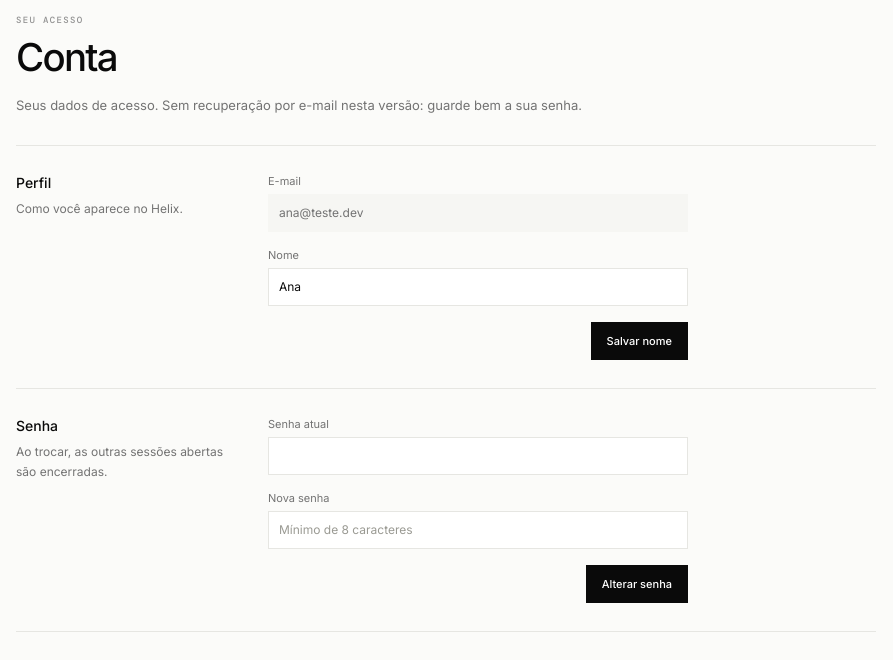
Test: AccountView › mostra mensagem genérica quando changePassword é rejeitada
The image size is (893, 660).
Type "errada-123" into the password field labelled "Senha atual" at [478, 456], box [268,437,688,475]
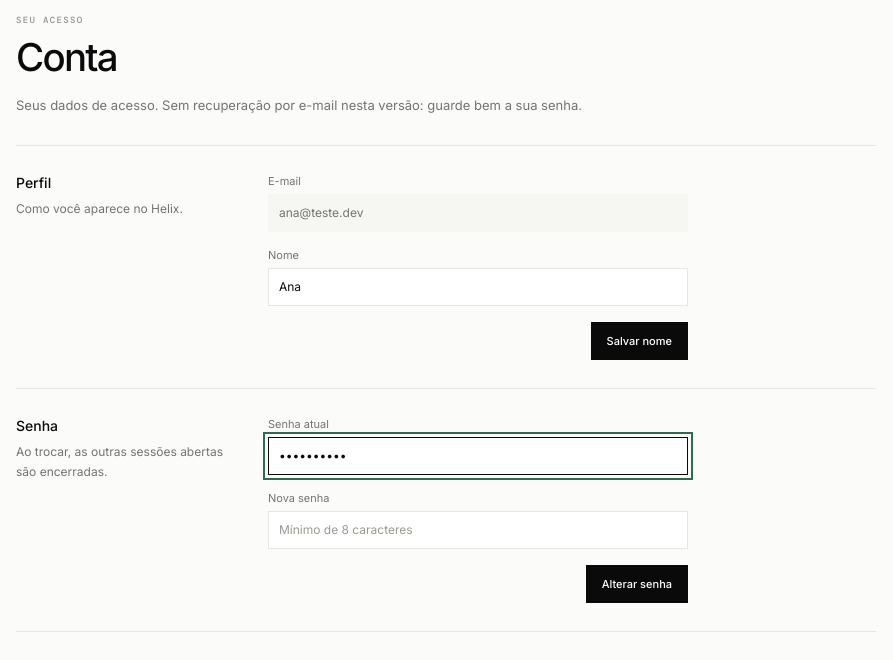
Type "nova-senha-1" into the password field labelled "Nova senha" at [478, 530], box [268,511,688,549]
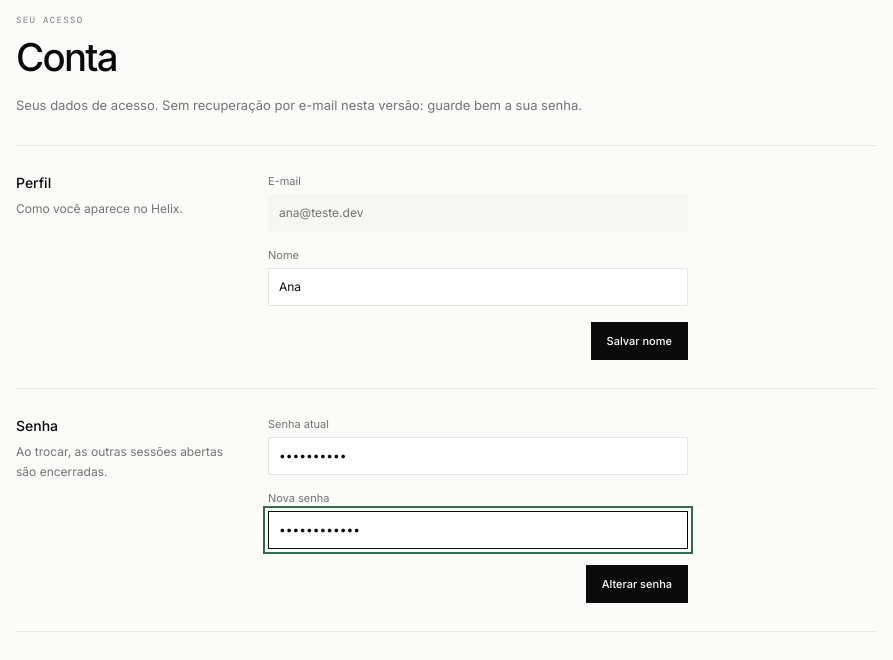
Click the button "Alterar senha" at [637, 584], box [586,565,688,603]
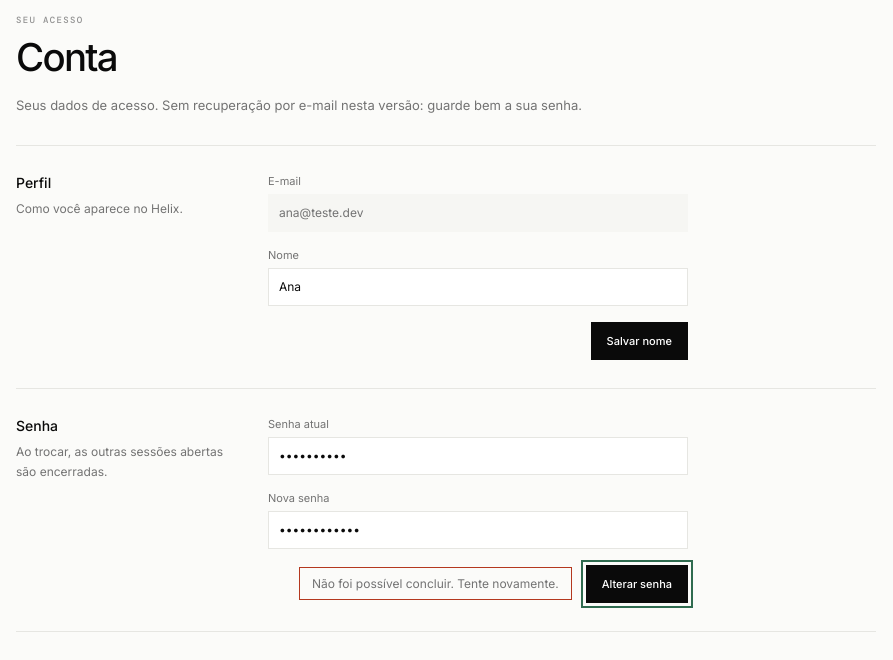
Expected: the message reads "Não foi possível concluir. Tente novamente.", [312,576,559,591]
